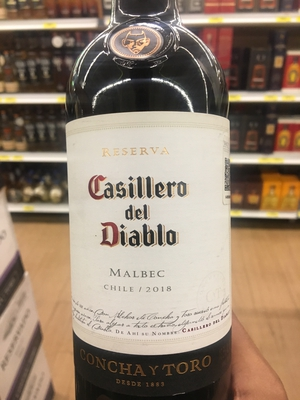casillero del diablo malbec: (55, 14, 248, 400)
